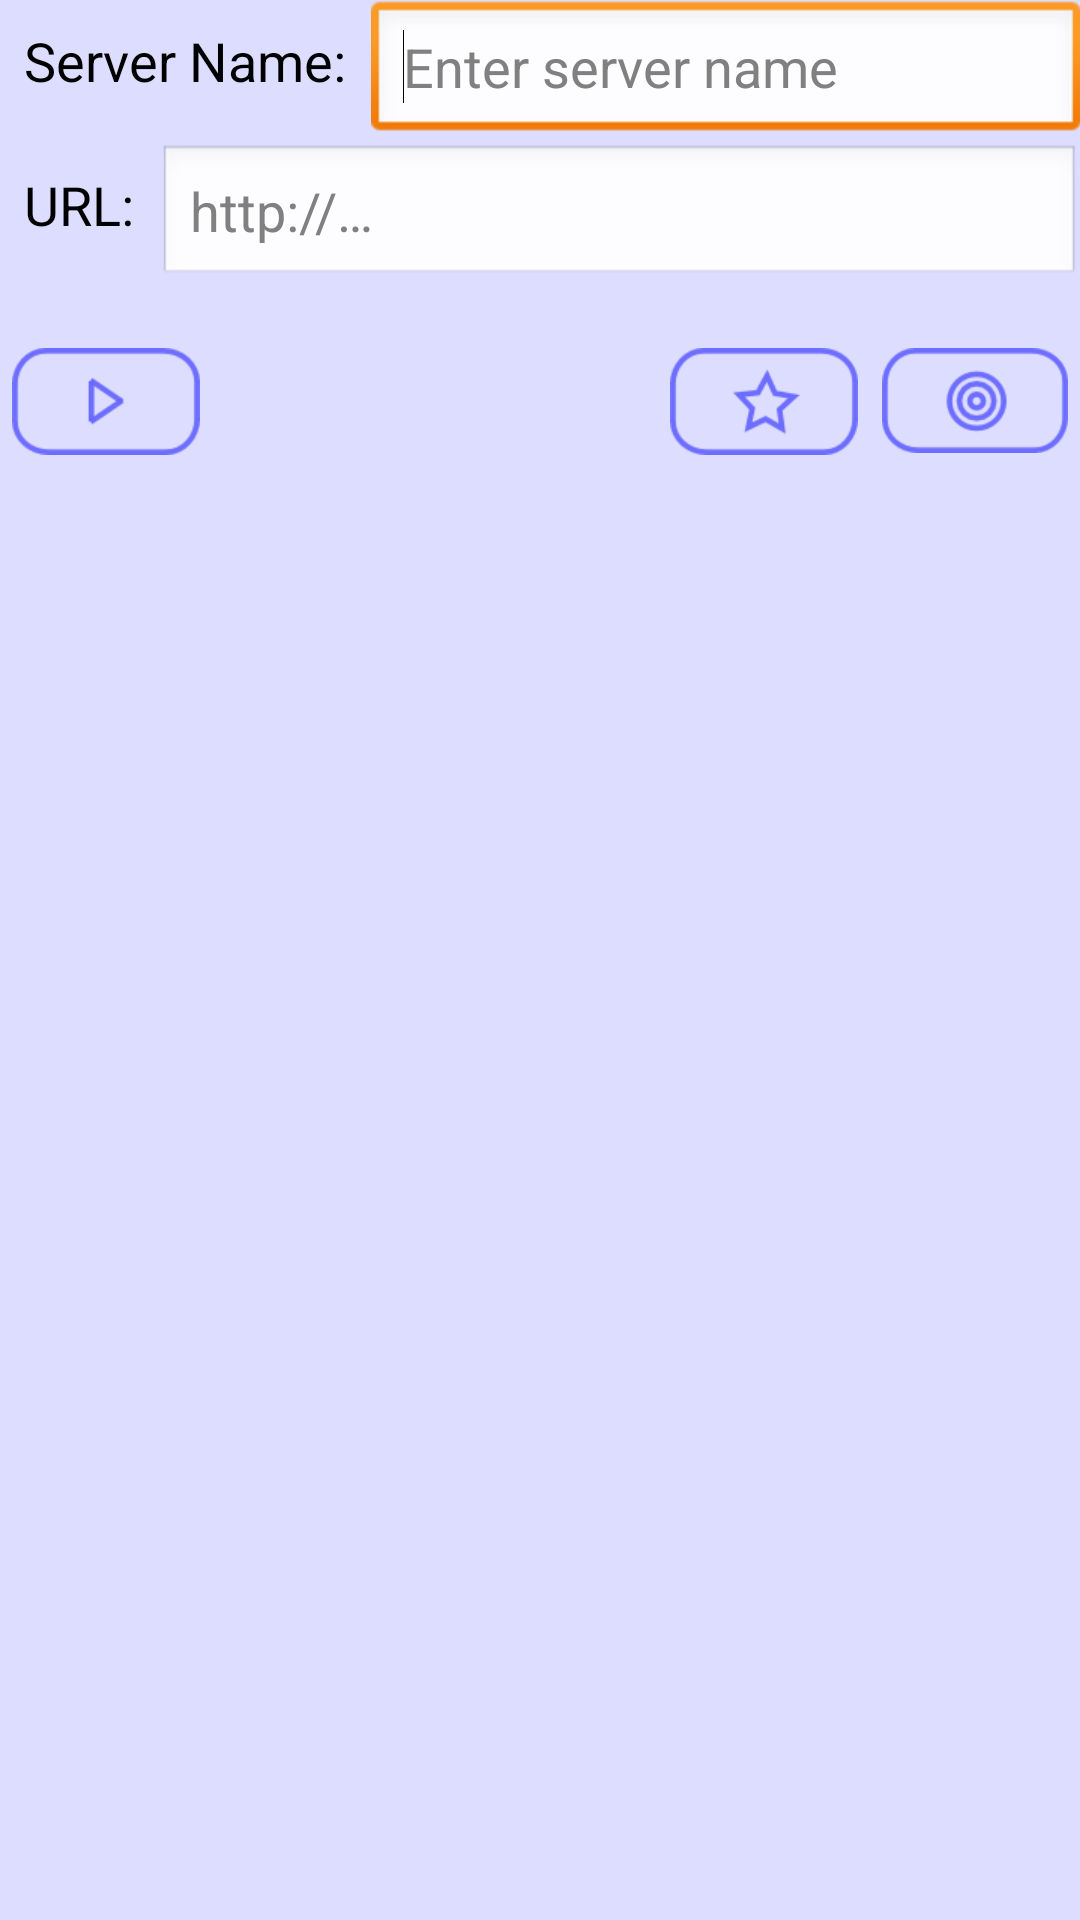

Icons on this 1080x1920 Android screen, each with its box as (x1, y1, x2, y2):
Add to favourites: (670, 348, 858, 455)
Play: (12, 348, 200, 455)
